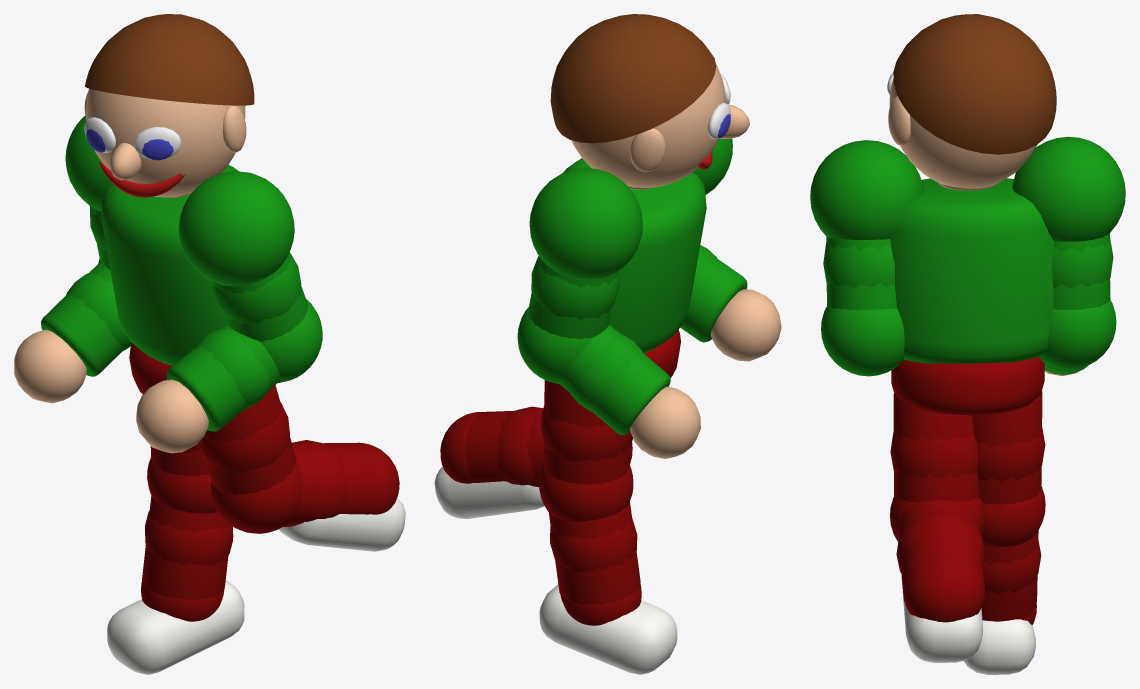
3 renders of one model, left to right at view 1: azimuth 30°, elevation 25°; view 2: azimuth 150°, elevation 25°; view 3: azimuth 270°, elevation 25°, orthographic. The views are drawn at different scales.
Visible parts, largest first — view 1: torso, hair, shoulder_ball_n, head, shoe_f, shin_f, farm_n, hand_n, hand_f, thigh_n, shoe_n, farm_f (+21 smaller); view 2: hair, torso, shoulder_ball_f, shoe_f, head, shin_f, farm_f, hand_n, thigh_f, hand_f, shoe_n, knee_ball_f (+15 smaller); view 3: torso, hair, shoulder_ball_n, shoulder_ball_f, pelvis, elbow_ball_n, thigh_n, head, ankle_ball_n, thigh_f, elbow_ball_f, thigh_bulge_n (+14 smaller).
Boxes of the visible parts, x1,y1,x2,y2 form: torso: (100,165,239,365); hair: (85,14,254,105); shoulder_ball_n: (178,171,294,286); head: (86,88,245,197); shoe_f: (107,580,244,674); shin_f: (142,496,229,599); farm_n: (166,326,280,431); hand_n: (136,379,208,453); hand_f: (14,329,86,403); thigh_n: (204,385,296,494); shoe_n: (279,498,405,551); farm_f: (41,263,123,376); hair: (550,14,716,143); torso: (563,158,706,353); shoulder_ball_f: (529,168,642,279); shoe_f: (539,584,677,674); head: (571,65,726,187); shin_f: (549,501,640,604); farm_f: (559,325,670,435); hand_n: (711,289,781,361); thigh_f: (543,380,629,484); hand_f: (630,386,700,458); shoe_n: (434,466,544,518); knee_ball_f: (539,464,633,521); torso: (890,178,1053,363); hair: (893,14,1056,154); shoulder_ball_n: (810,140,923,240); shoulder_ball_f: (1012,136,1125,241); pelvis: (891,357,1044,415); elbow_ball_n: (821,306,904,376); thigh_n: (893,393,979,502); head: (889,78,1036,188); ankle_ball_n: (903,556,984,622); thigh_f: (972,391,1042,504); elbow_ball_f: (1039,299,1116,369); thigh_bulge_n: (890,431,977,478).
Bounding box in the file's own units: 0.7497 × 1.46 × 0.6539.
